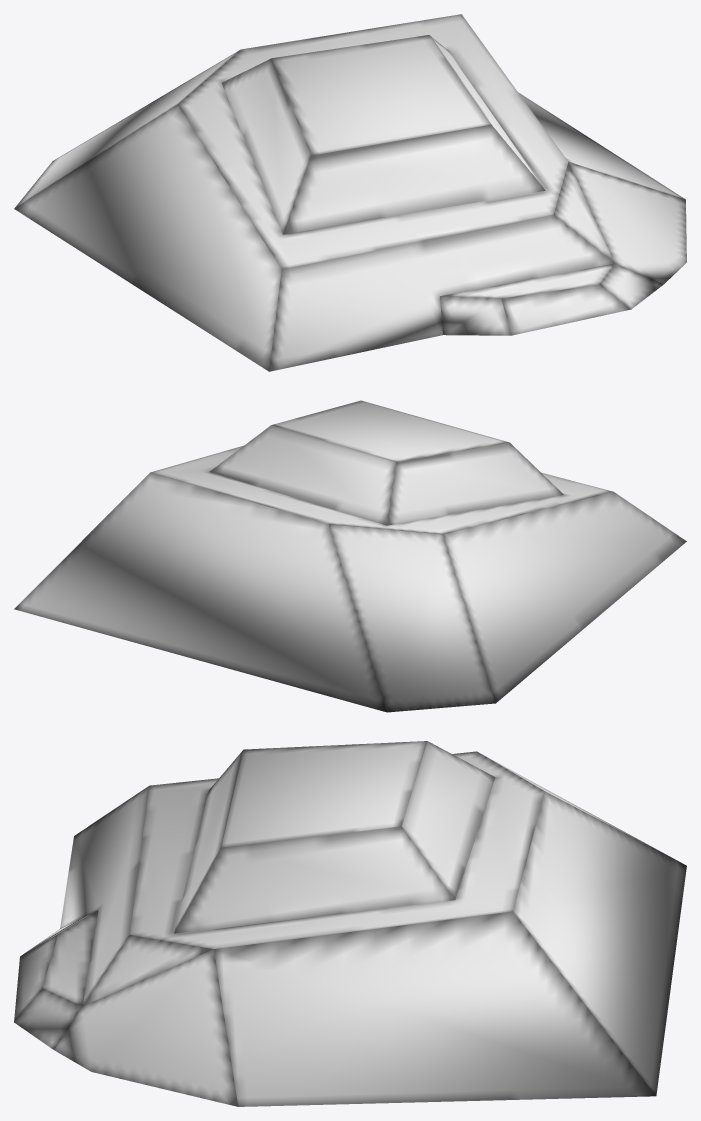
File: Rock-01.fbx
3 renders of one model, top to bottom at view 1: azimuth 30°, elevation 25°; view 2: azimuth 150°, elevation 25°; view 3: azimuth 270°, elevation 25°, orthographic. The views are drawn at different scales.
Visible parts, largest first — view 1: Rock-01; view 2: Rock-01; view 3: Rock-01.
Boxes of the visible parts, x1,y1,x2,y2 form: Rock-01: [14, 14, 686, 371]; Rock-01: [14, 400, 686, 712]; Rock-01: [14, 741, 686, 1106].
Bounding box in the file's own units: 1 × 0.3 × 1.
